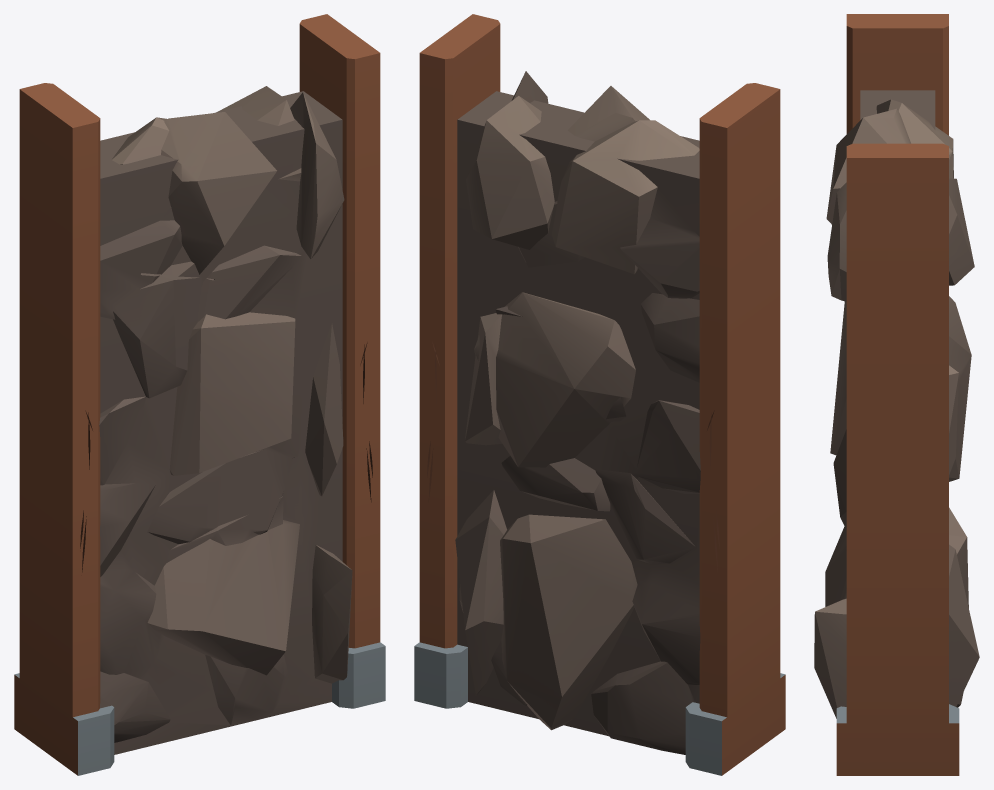
The model's file is wall_cave_half_B.glb.
3 views of the same model, side by side, from view 1: azimuth 30°, elevation 25°; view 2: azimuth 150°, elevation 25°; view 3: azimuth 270°, elevation 25° (orthographic). The views are drawn at different scales.
Visible parts, largest first — view 1: Item; view 2: Item; view 3: Item.
Boxes of the visible parts, x1,y1,x2,y2 form: Item: (14, 14, 385, 775); Item: (414, 14, 785, 775); Item: (814, 14, 979, 775).
Size of the model in its own units: 2 by 4 by 0.9714.
1 material, 1 textured.
